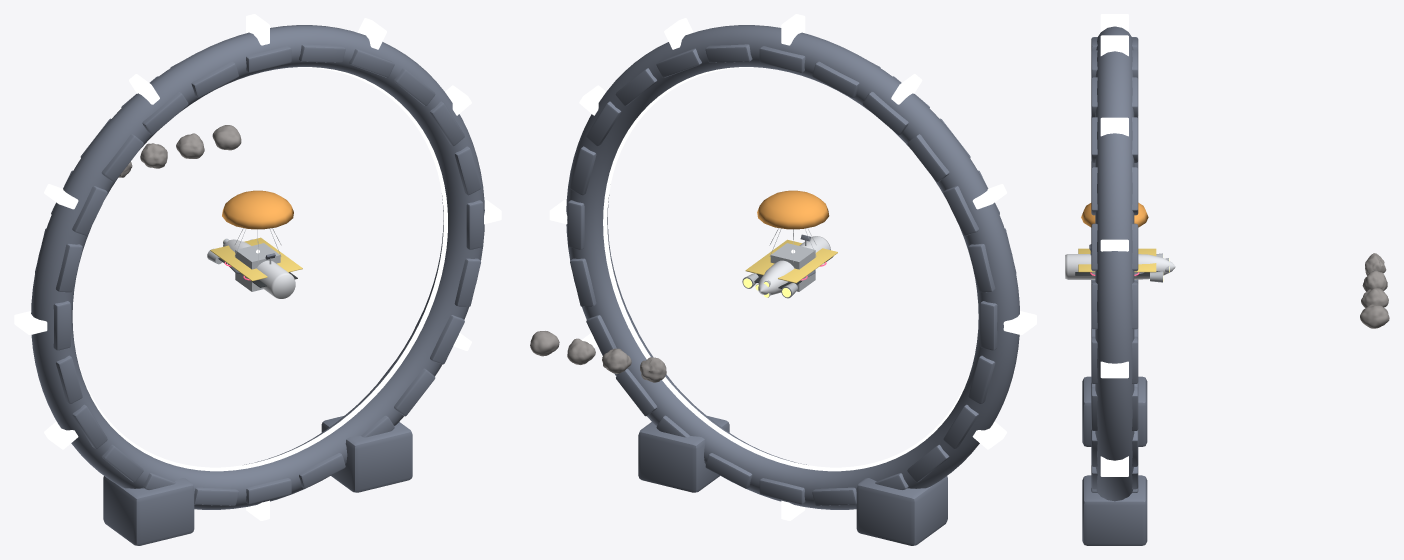
File: props.glb
3 views of the same model, side by side, from view 1: azimuth 30°, elevation 25°; view 2: azimuth 150°, elevation 25°; view 3: azimuth 270°, elevation 25° (orthographic). The views are drawn at different scales.
Visible parts, largest first — view 1: Portal_PortalFrame, Portal_Neon, Chute, Rocket_Stainless, Skiff_SkiffGold, Crate_Steel, Rock_3; view 2: Portal_PortalFrame, Portal_Neon, Chute, Skiff_SkiffGold, Rocket_Stainless, Crate_Steel; view 3: Portal_PortalFrame, Rocket_Stainless, Rock_3, Emitter_3, Emitter_11, Skiff_SkiffGold, Emitter_2, Emitter_0, Chute, Emitter_4, Rock_2.
Part boxes in pixels (x1,y1,x2,y2): Portal_PortalFrame: [31, 25, 484, 545]; Portal_Neon: [76, 67, 447, 471]; Chute: [222, 190, 293, 262]; Rocket_Stainless: [223, 239, 295, 298]; Skiff_SkiffGold: [210, 237, 302, 281]; Crate_Steel: [235, 243, 280, 291]; Rock_3: [212, 125, 241, 150]; Portal_PortalFrame: [566, 25, 1019, 545]; Portal_Neon: [603, 67, 974, 471]; Chute: [757, 190, 829, 262]; Skiff_SkiffGold: [745, 239, 837, 283]; Rocket_Stainless: [758, 236, 830, 295]; Crate_Steel: [770, 243, 815, 291]; Portal_PortalFrame: [1082, 26, 1147, 545]; Rocket_Stainless: [1065, 254, 1175, 279]; Rock_3: [1360, 304, 1389, 328]; Emitter_3: [1100, 35, 1128, 56]; Emitter_11: [1100, 456, 1128, 476]; Skiff_SkiffGold: [1078, 248, 1156, 272]; Emitter_2: [1100, 117, 1128, 136]; Emitter_0: [1100, 361, 1128, 378]; Chute: [1081, 202, 1148, 227]; Emitter_4: [1100, 14, 1128, 31]; Rock_2: [1361, 288, 1388, 307].
Bounding box in the file's own units: 39 × 39 × 24.93.
